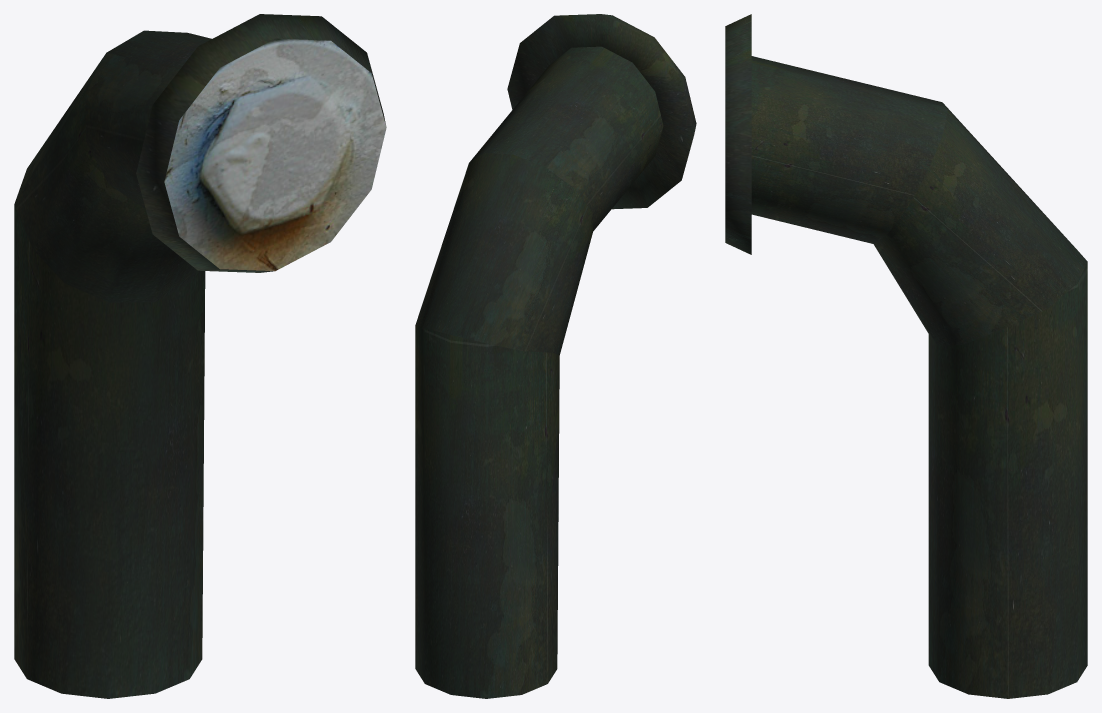
The model's file is pipe_1.obj.
3 views of the same model, side by side, from view 1: azimuth 30°, elevation 25°; view 2: azimuth 150°, elevation 25°; view 3: azimuth 270°, elevation 25° (orthographic). The views are drawn at different scales.
Parts seen in each view (by area): view 1: pipe_1; view 2: pipe_1; view 3: pipe_1.
Boxes of the visible parts, <box> form: pipe_1: <box>14,14,386,698</box>; pipe_1: <box>415,14,696,698</box>; pipe_1: <box>725,14,1087,698</box>.
Bounding box in the file's own units: 0.2281 × 0.666 × 0.3418.
Materials: 1 (1 with a texture image).
